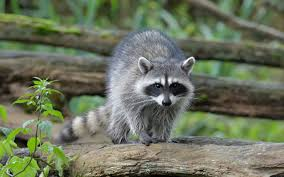raccoon: (55, 29, 198, 144)
